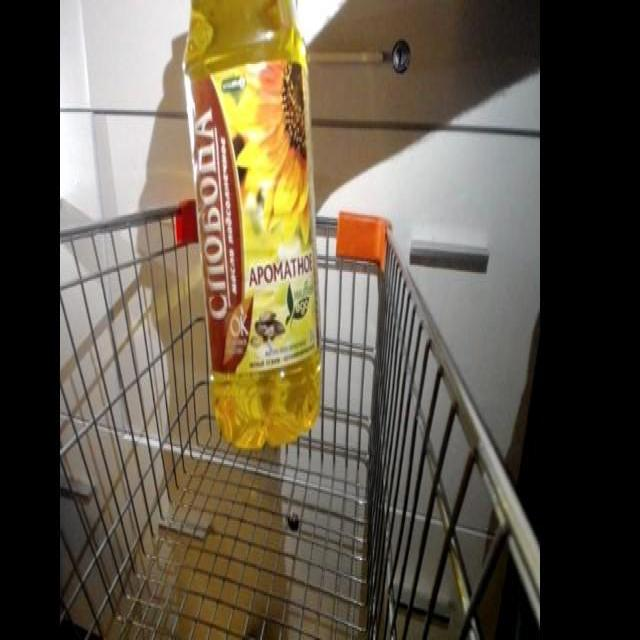Oil: (180, 1, 330, 459)
